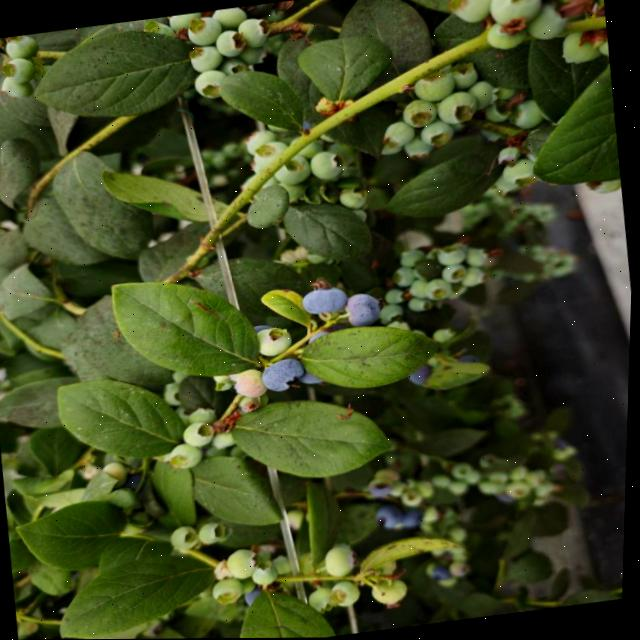RipeBlueBerry: (301, 281, 352, 317), (261, 356, 310, 393), (345, 290, 388, 328)
Semi-RipeBlueBerry: (234, 366, 270, 399)
UnripeBlueBerry: (434, 89, 481, 128), (309, 147, 350, 181), (255, 323, 296, 357)
